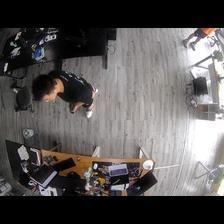normal: (30, 69, 98, 119)
